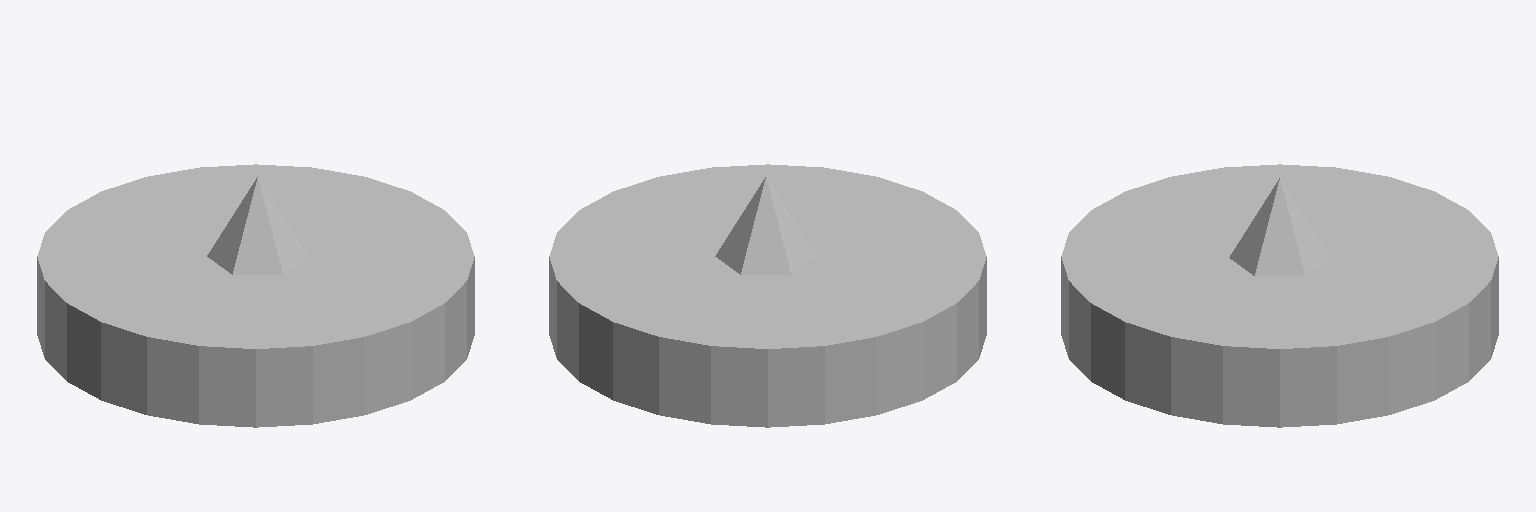
Rendered from gems_aquamarine_1.obj.
3 views of the same model, side by side, from view 1: azimuth 30°, elevation 25°; view 2: azimuth 150°, elevation 25°; view 3: azimuth 270°, elevation 25° (orthographic).
Parts seen in each view (by area): view 1: mergedBlocks; view 2: mergedBlocks; view 3: mergedBlocks.
Part boxes in pixels (left/top/right/bottom): mergedBlocks: left=37, top=164, right=474, bottom=427; mergedBlocks: left=549, top=164, right=986, bottom=427; mergedBlocks: left=1061, top=164, right=1498, bottom=427.
Bounding box in the file's own units: 1 × 0.4 × 1.